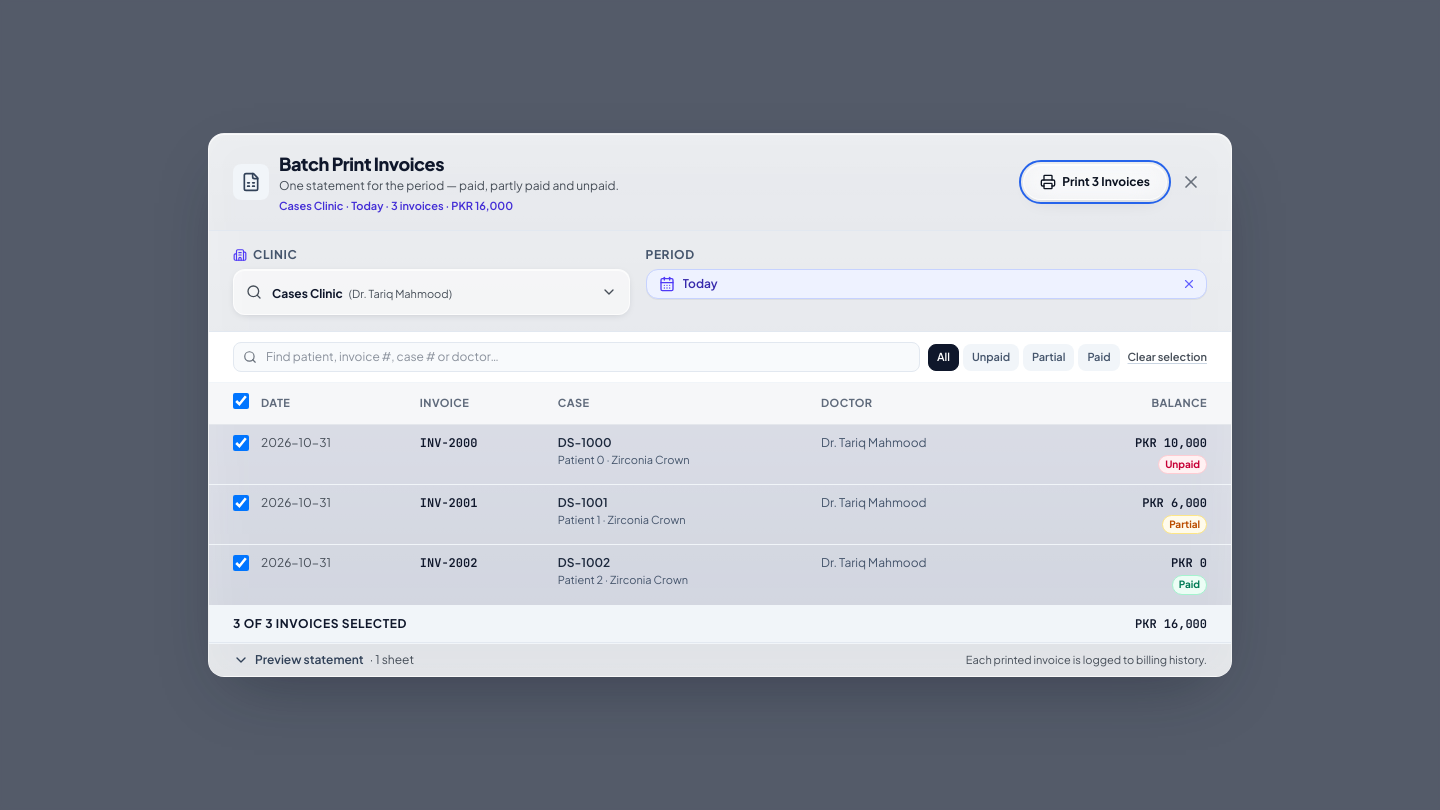
Scenario: batch print picker › status filter keeps only the matching money state
Click the button "Paid". click: click(1099, 357)
box: x1=1078 y1=344 x2=1120 y2=370
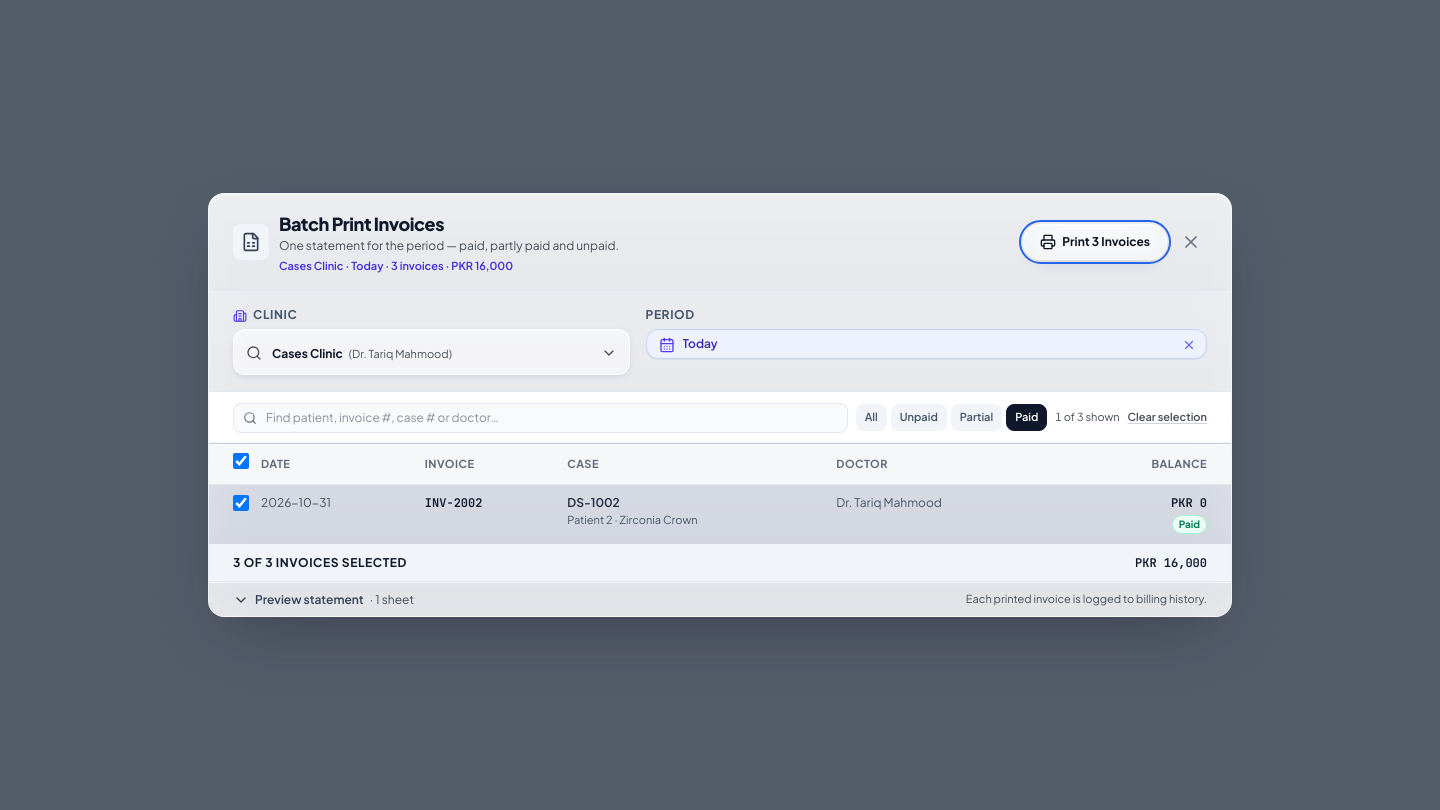
Expected: the text "INV-2002" is shown, x1=413 y1=485 x2=555 y2=544
Expected: the text "1 of 3 shown" is shown, x1=1055 y1=409 x2=1120 y2=426
